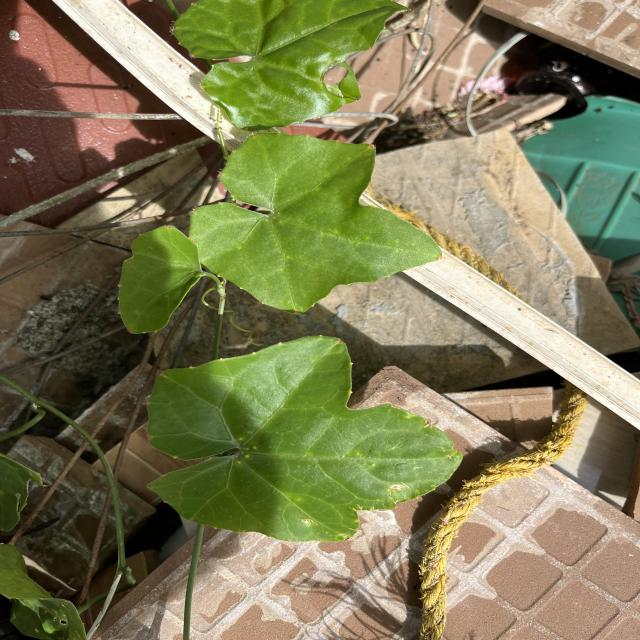Coccinia grandis: (141, 332, 469, 546), (192, 130, 448, 316)
